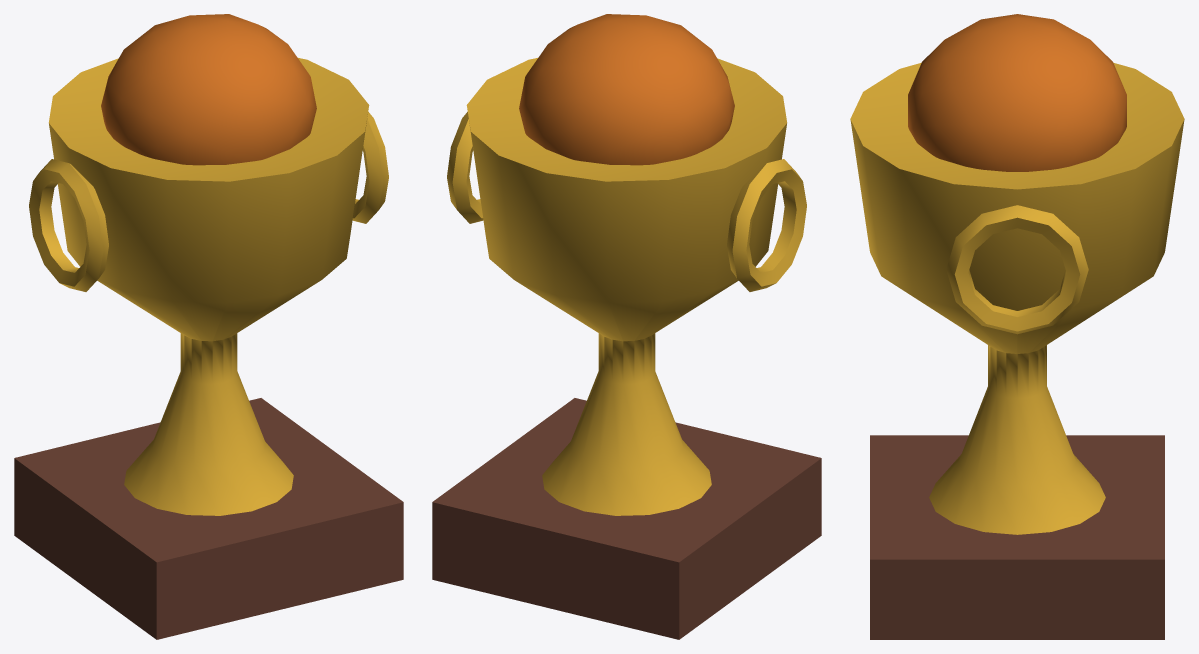
Rendered from giant_trophy.glb.
The picture shows the model from 3 angles, left to right: view 1: azimuth 30°, elevation 25°; view 2: azimuth 150°, elevation 25°; view 3: azimuth 270°, elevation 25°; orthographic projection. The views are drawn at different scales.
Visible parts, largest first — view 1: decor-giant_trophy; view 2: decor-giant_trophy; view 3: decor-giant_trophy.
Boxes of the visible parts, x1=… form: decor-giant_trophy: x1=14, y1=14, x2=403, y2=639; decor-giant_trophy: x1=432, y1=14, x2=821, y2=639; decor-giant_trophy: x1=850, y1=14, x2=1184, y2=639.
Bounding box in the file's own units: 1.6 × 2.72 × 1.5.
